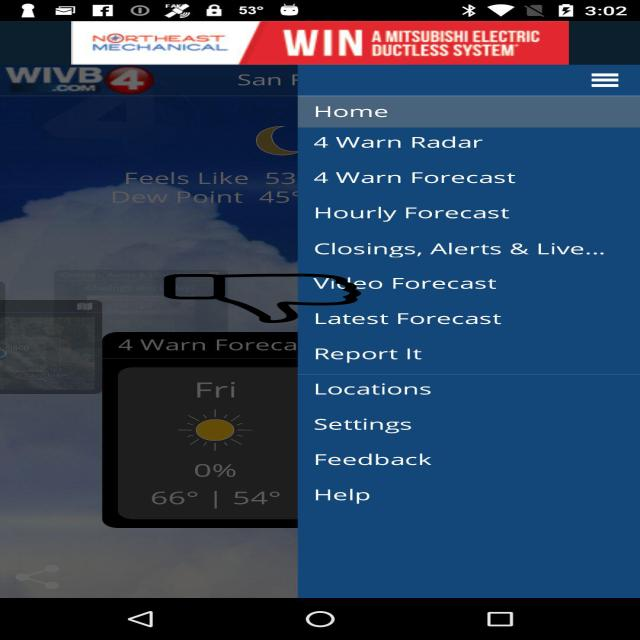obstruction: (161, 274, 364, 323)
